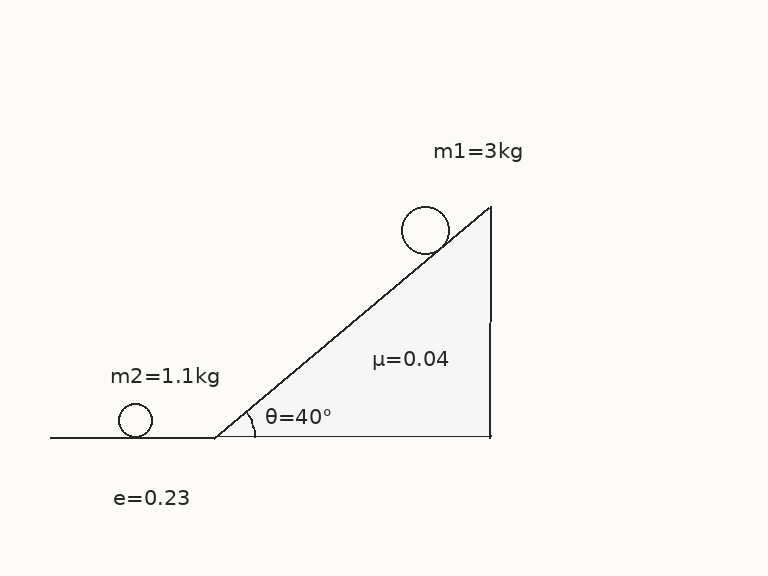ball: (399, 204, 451, 256), (116, 401, 154, 439)
ramp: (213, 204, 492, 439)
